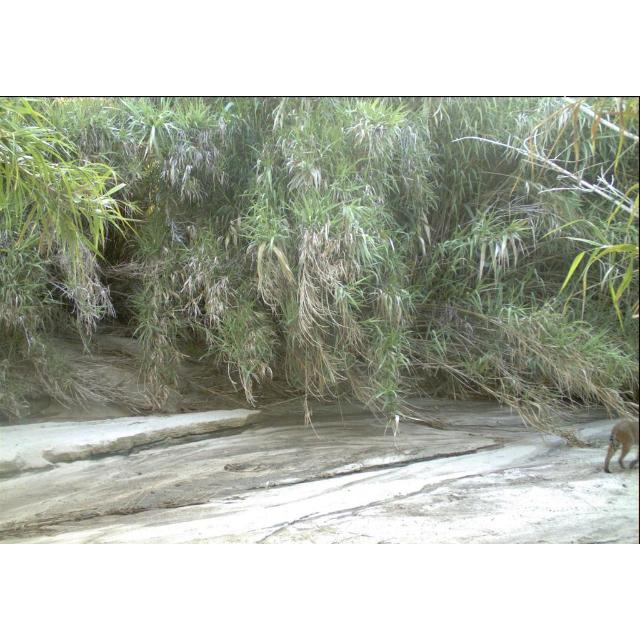animals: (604, 418, 640, 478)
